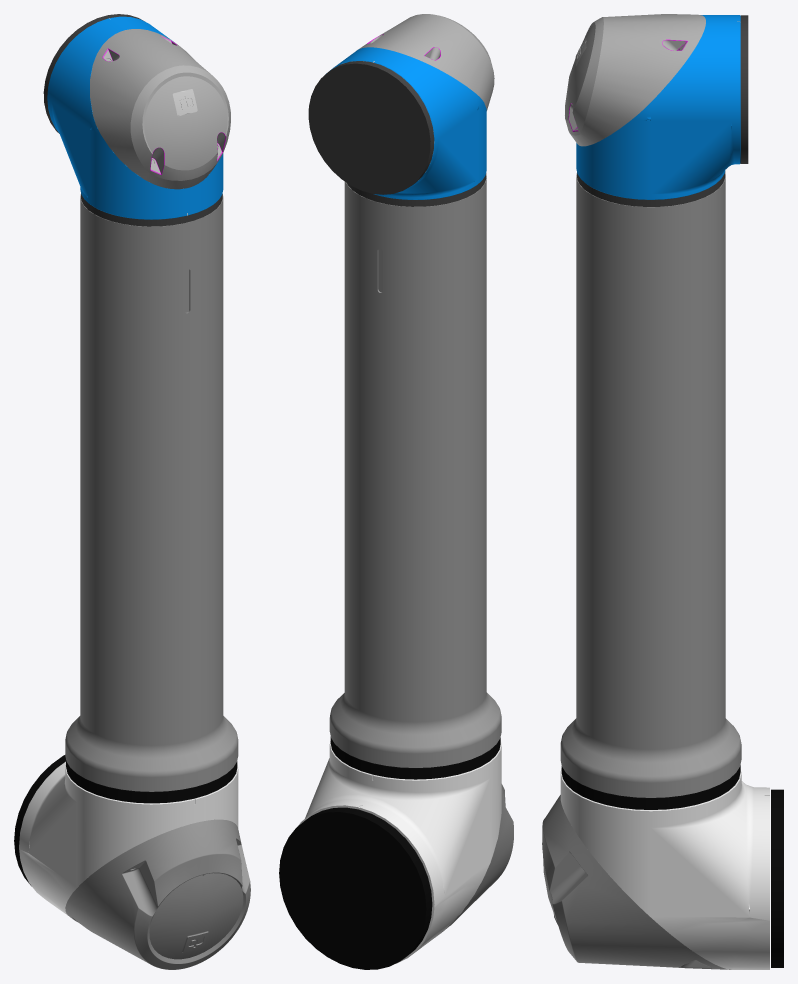
3 renders of one model, left to right at view 1: azimuth 30°, elevation 25°; view 2: azimuth 150°, elevation 25°; view 3: azimuth 270°, elevation 25°, orthographic. The views are drawn at different scales.
Parts seen in each view (by area): view 1: RB20-1900ES_SHOULDER; view 2: RB20-1900ES_SHOULDER; view 3: RB20-1900ES_SHOULDER.
Part boxes in pixels (box(x1,y1,x2,y2)): RB20-1900ES_SHOULDER: box(14, 14, 250, 969); RB20-1900ES_SHOULDER: box(279, 14, 513, 969); RB20-1900ES_SHOULDER: box(542, 14, 783, 969).
Bounding box in the file's own units: 0.1864 × 0.2457 × 1.05.
